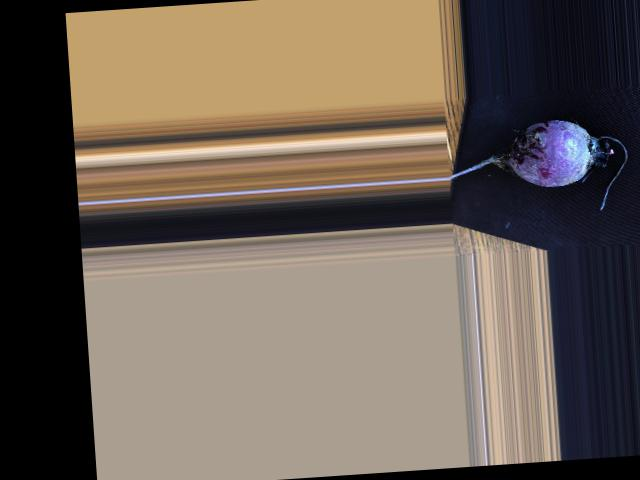beet: (444, 114, 630, 220)
